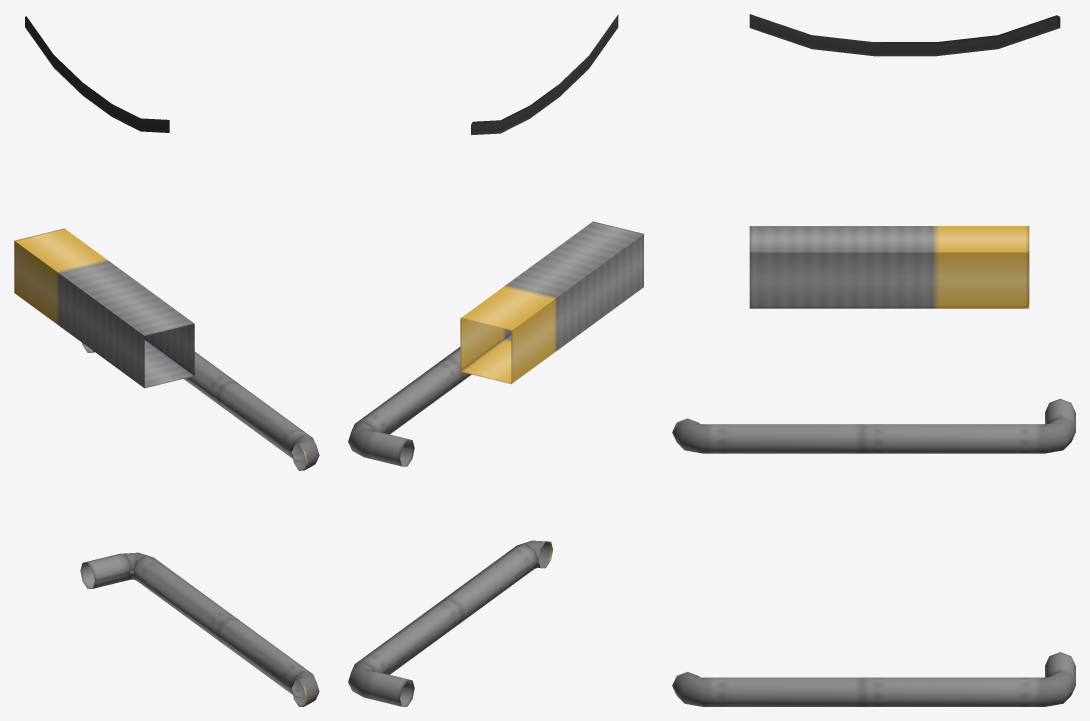
The model's file is strong_rope.obj.
3 views of the same model, side by side, from view 1: azimuth 30°, elevation 25°; view 2: azimuth 150°, elevation 25°; view 3: azimuth 270°, elevation 25° (orthographic). The views are drawn at different scales.
Visible parts, largest first — view 1: strong_rope; view 2: strong_rope; view 3: strong_rope.
Part boxes in pixels (box(x1,y1,x2,y2)): strong_rope: box(14, 16, 319, 706); strong_rope: box(348, 14, 643, 706); strong_rope: box(672, 14, 1075, 706).
Bounding box in the file's own units: 1.5 × 5.62 × 3.25.
